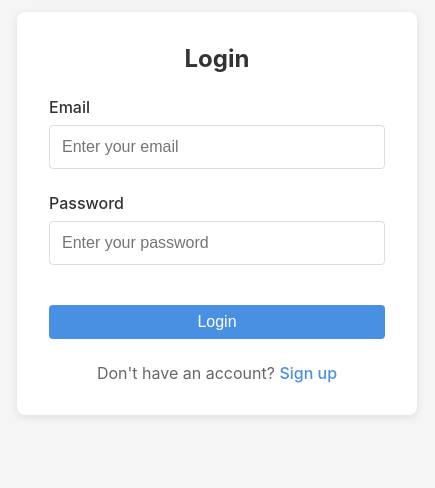
Login Component › should display error message when login fails
Type "test@example.com" into the field labelled "Email" at point(217, 146), box x1=49 y1=124 x2=385 y2=168
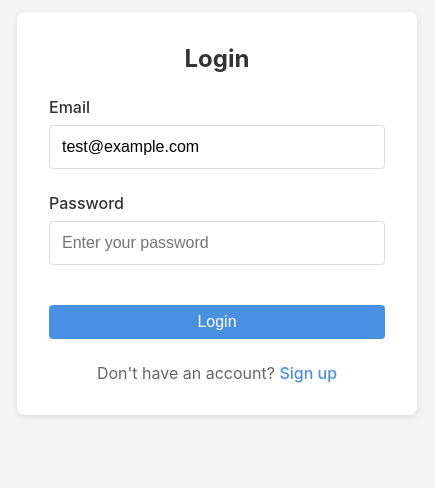
Type "password123" into the password field labelled "Password" at point(217, 242), box x1=49 y1=220 x2=385 y2=264
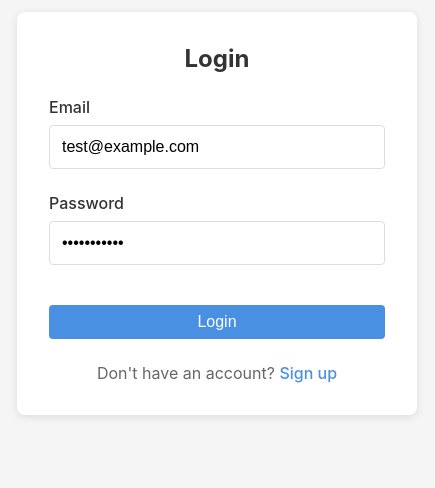
Click the button "Login" at point(217, 322), box x1=49 y1=304 x2=385 y2=338
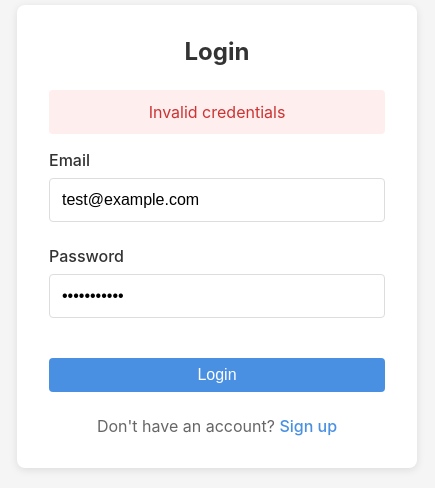
Result: the text "Invalid credentials" is shown at x1=49 y1=90 x2=385 y2=134
